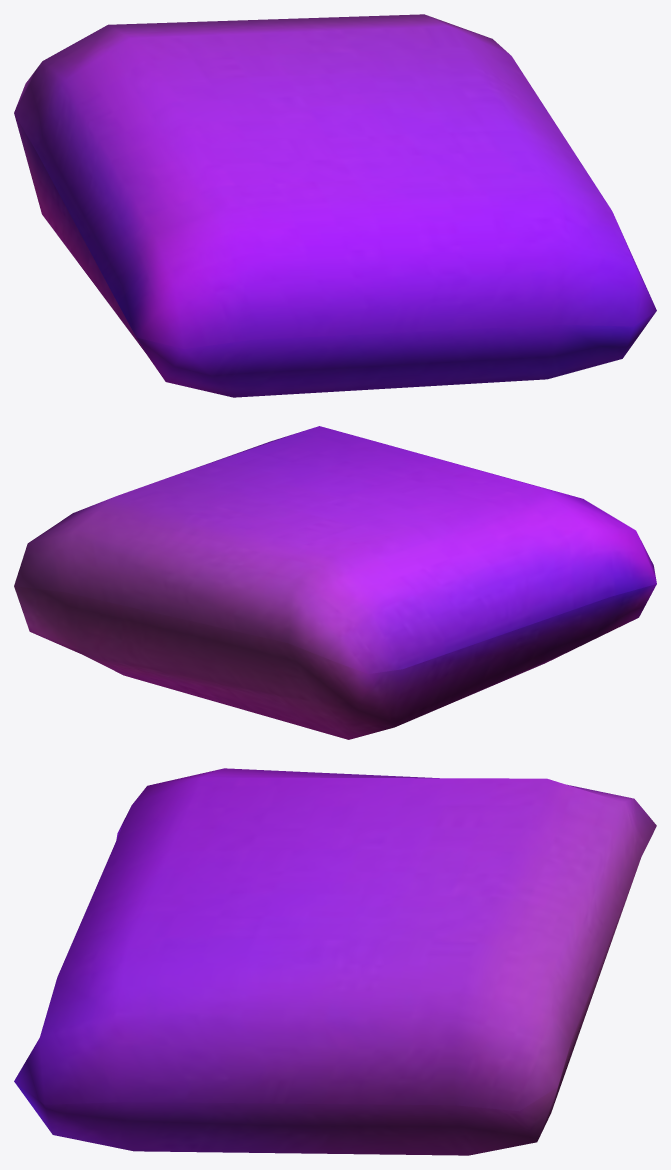
The model's file is dirtyChaiseCushion.glb.
The picture shows the model from 3 angles, top to bottom: view 1: azimuth 30°, elevation 25°; view 2: azimuth 150°, elevation 25°; view 3: azimuth 270°, elevation 25°; orthographic projection. The views are drawn at different scales.
Parts seen in each view (by area): view 1: chaiseCushion.001; view 2: chaiseCushion.001; view 3: chaiseCushion.001.
Boxes of the visible parts, bbox=[...] form: chaiseCushion.001: bbox=[14, 14, 656, 397]; chaiseCushion.001: bbox=[14, 426, 656, 739]; chaiseCushion.001: bbox=[14, 768, 656, 1155].
Size of the model in its own units: 0.7618 by 0.3153 by 0.7338.
Materials: 1 (1 with a texture image).
